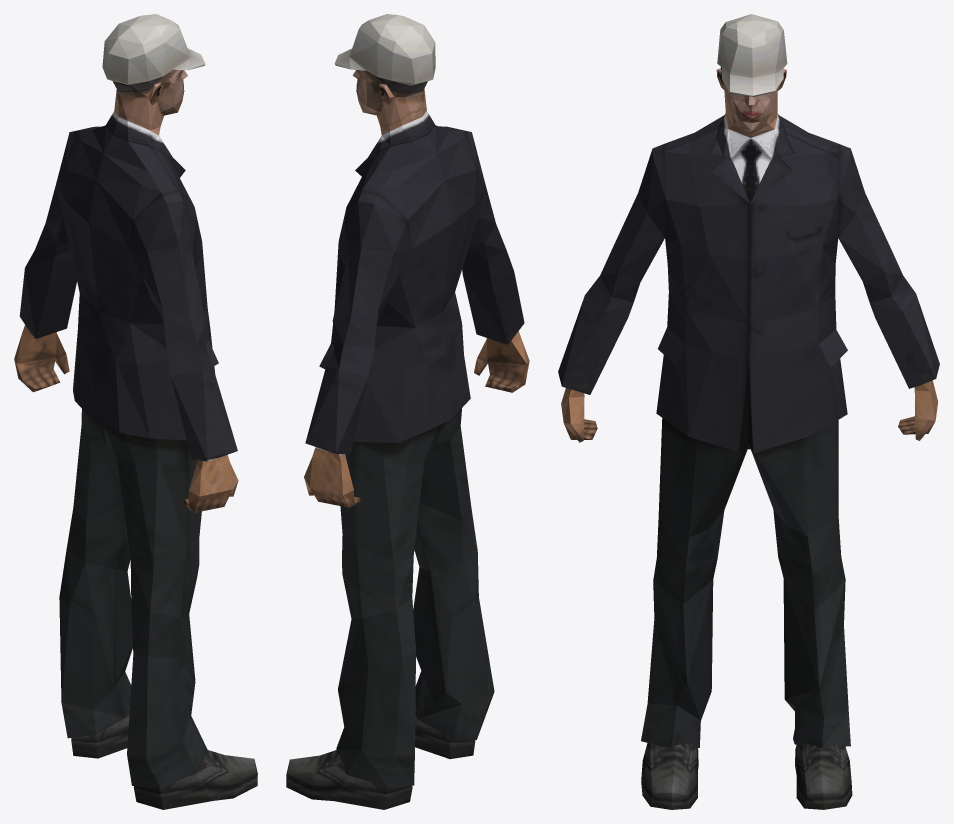
The model's file is wmyconb.obj.
3 views of the same model, side by side, from view 1: azimuth 30°, elevation 25°; view 2: azimuth 150°, elevation 25°; view 3: azimuth 270°, elevation 25° (orthographic).
Visible parts, largest first — view 1: _Pelvis; view 2: _Pelvis; view 3: _Pelvis.
Boxes of the visible parts, x1,y1,x2,y2 form: _Pelvis: (14, 14, 257, 809); _Pelvis: (286, 14, 529, 809); _Pelvis: (558, 14, 939, 809).
Size of the model in its own units: 0.3376 by 1.86 by 0.8467.
Materials: 1 (1 with a texture image).
